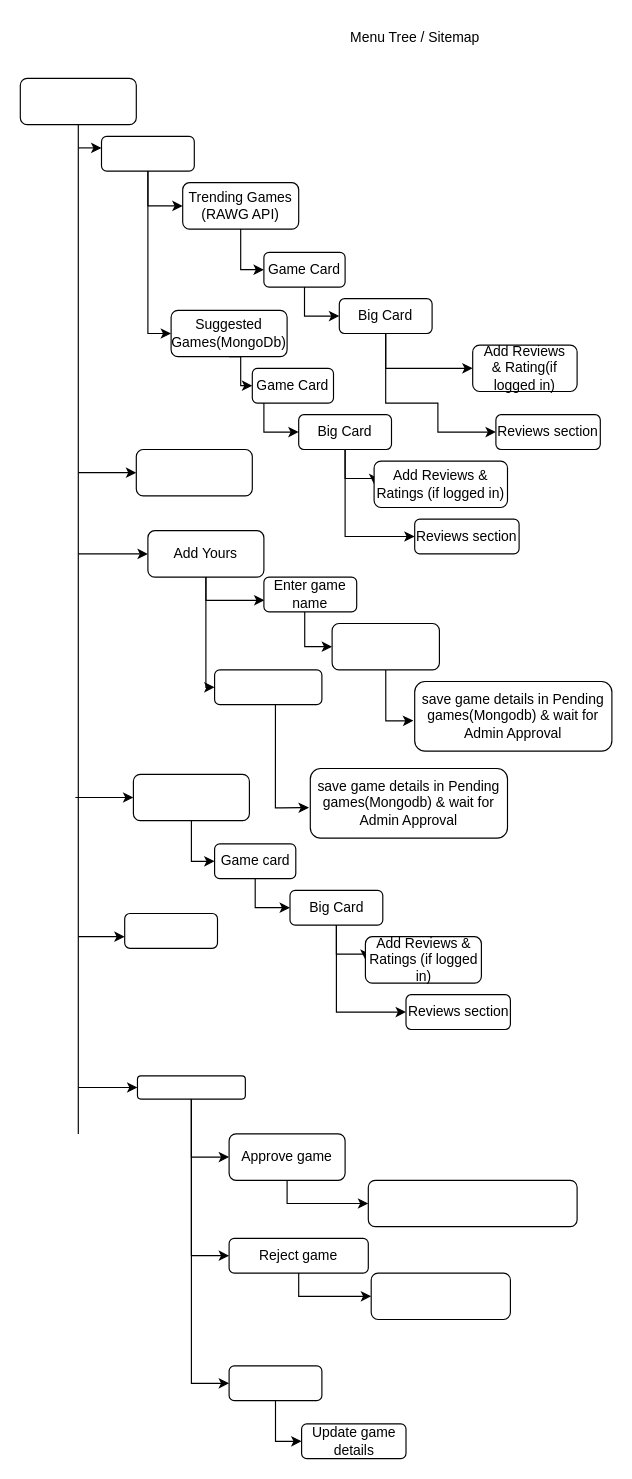
Some shapes in this 632 by 1479 pixel diagram are drawn without their labels. The centre of each missing label's shape, as x and y in pixels:
About Page(Website details): (193,472)
Add game details to game and update status to approved in mongodb: (472,1203)
Admin: (190,1087)
Edit Details: (275,1383)
Enter game details manually: (267,687)
Fetch game details from Ragw api: (385,646)
Games Sonnet: (77,101)
Home: (147,153)
Login/signup: (170,930)
Update status in pending games to rejected in mongodb: (440,1296)
Your Suggestion(if logged in): (190,797)
